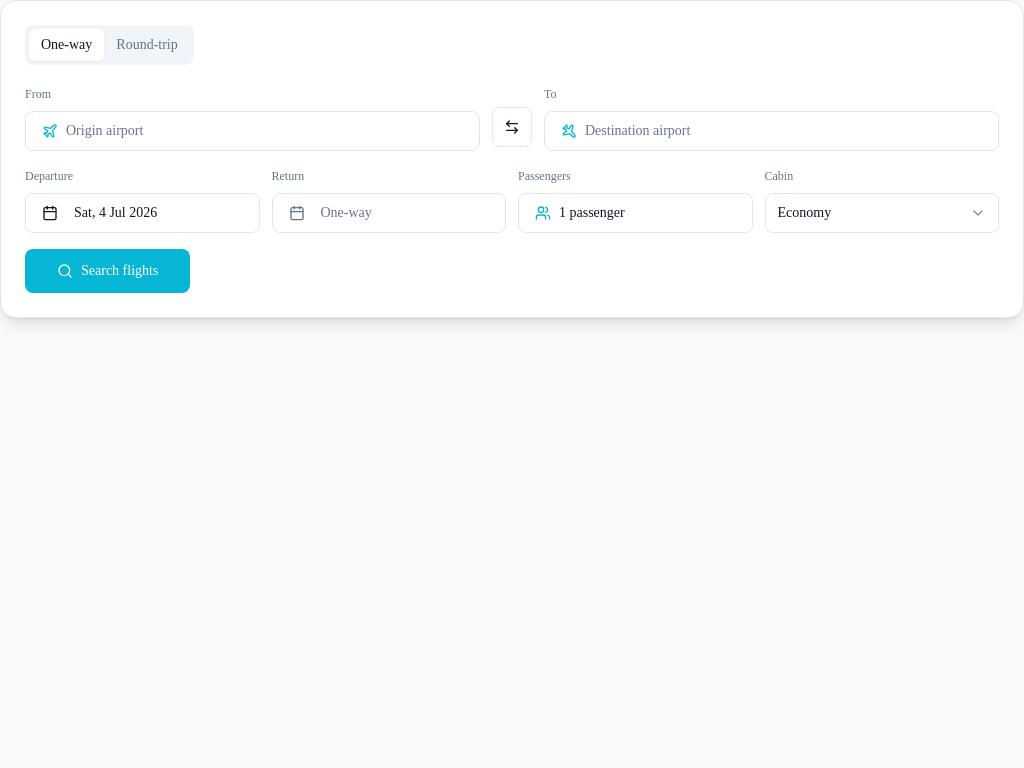
SearchForm › increments the passenger count from the popover
The width and height of the screenshot is (1024, 768).
Click the button "1 passenger".
click(635, 213)  # box [518,193,752,233]
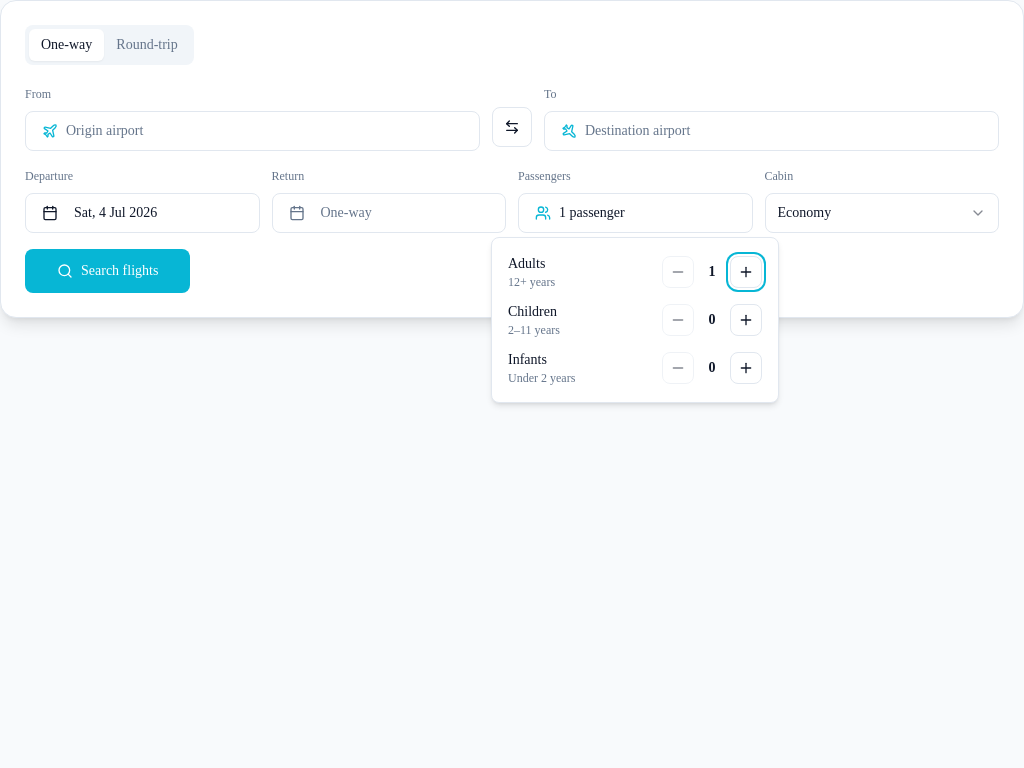
Click the button named "Increase Adults".
click(746, 272)  # box [730,256,762,288]
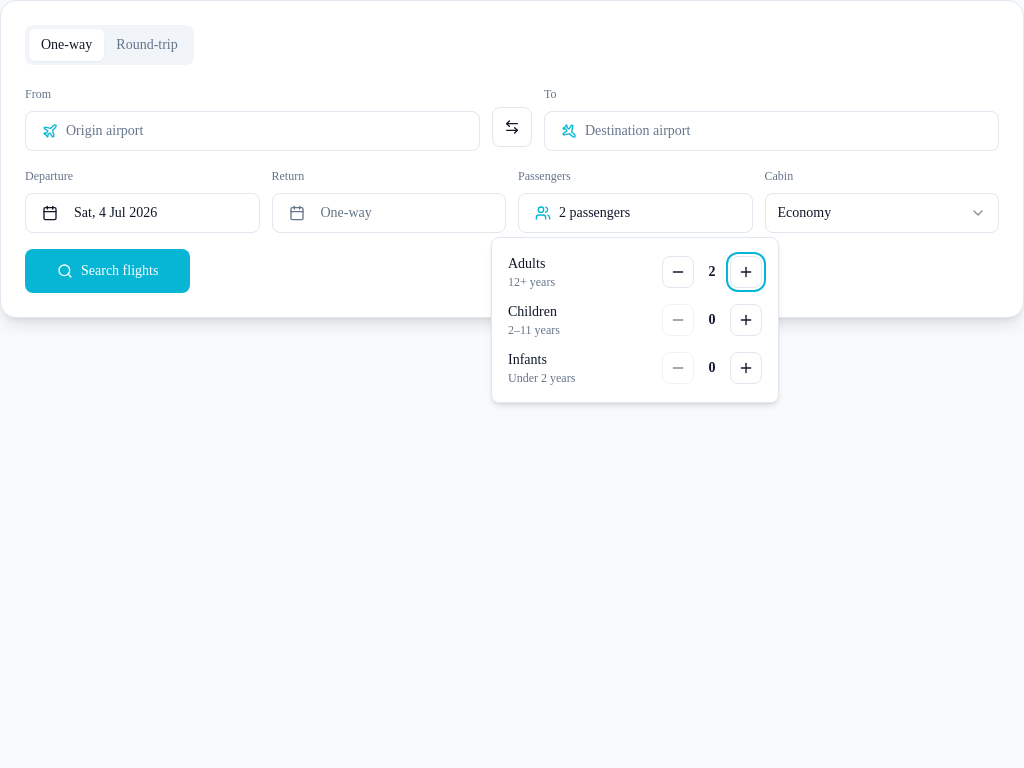
Expected: the button "2 passengers" is shown, [518,193,752,233]
